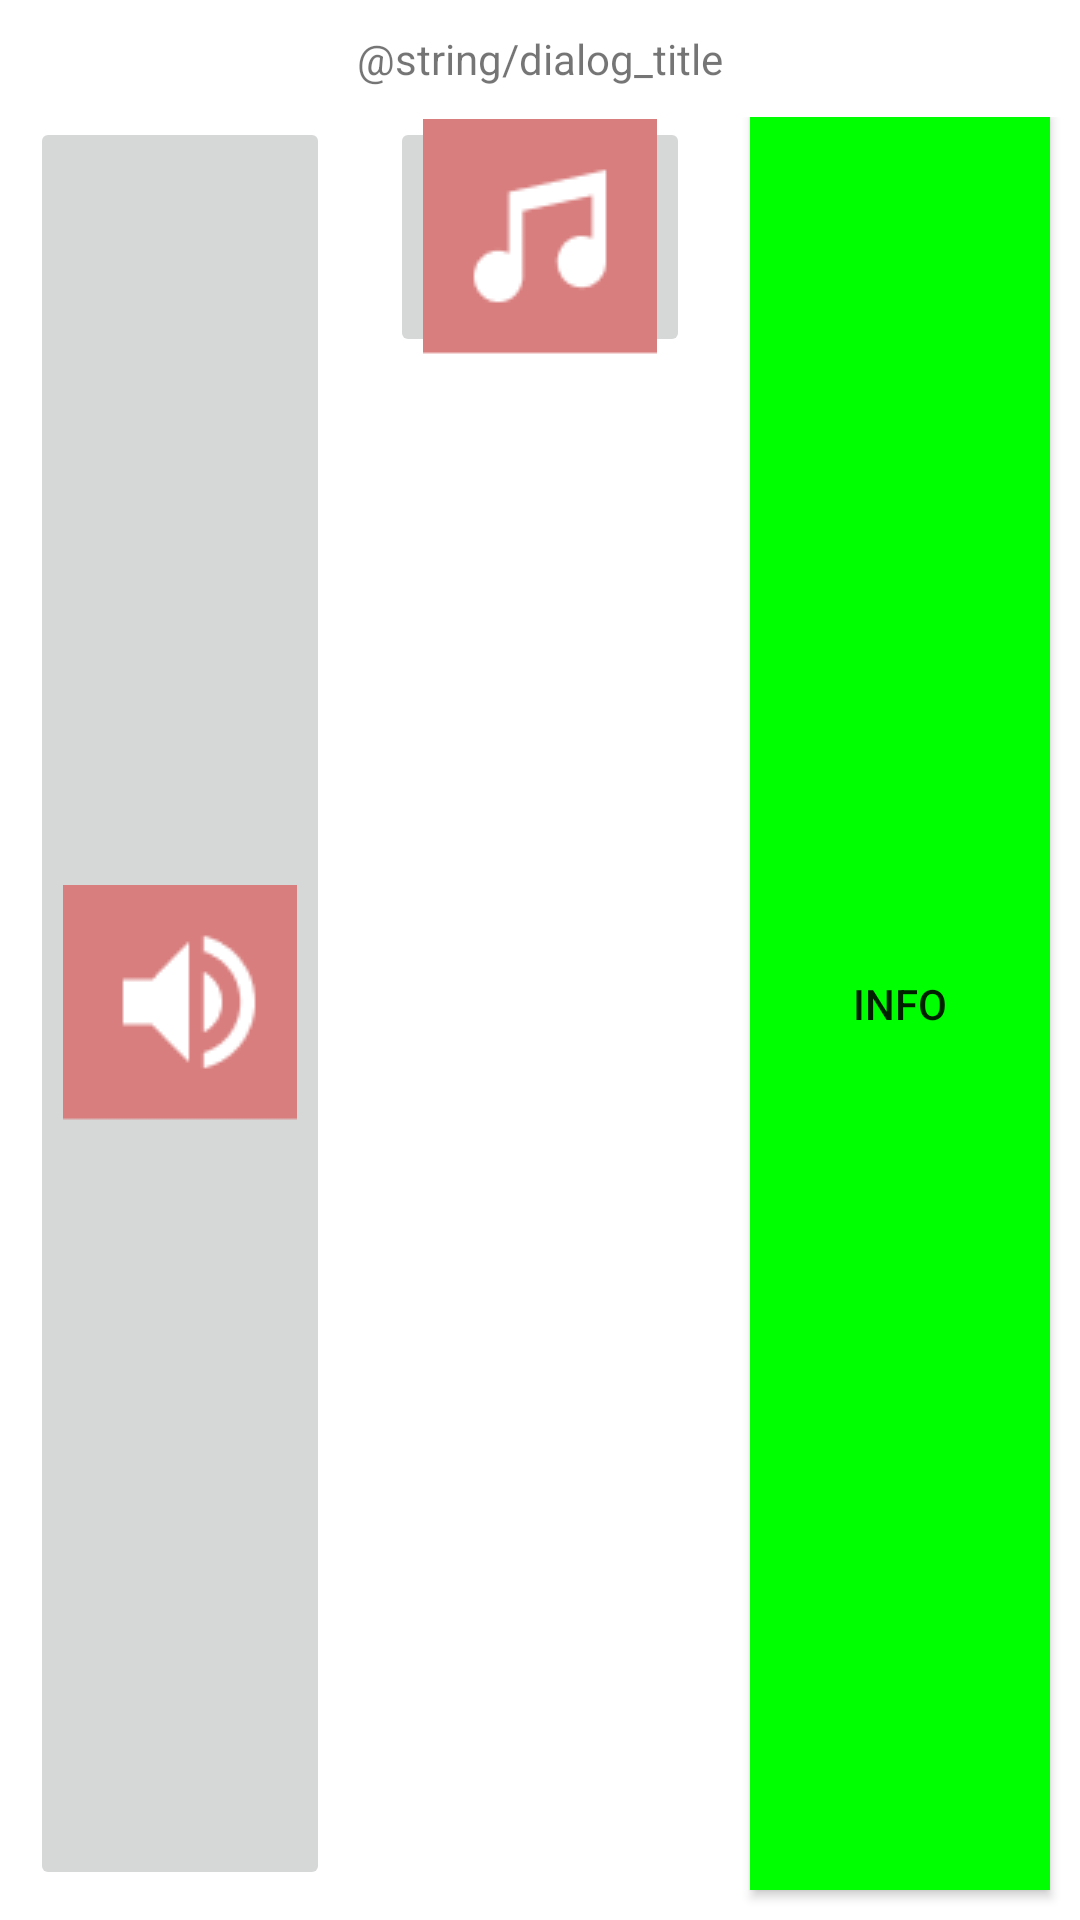

Point at icon controls on the screen. Image size 1080 × 1920, points as (x,y).
music on: (540,236)
